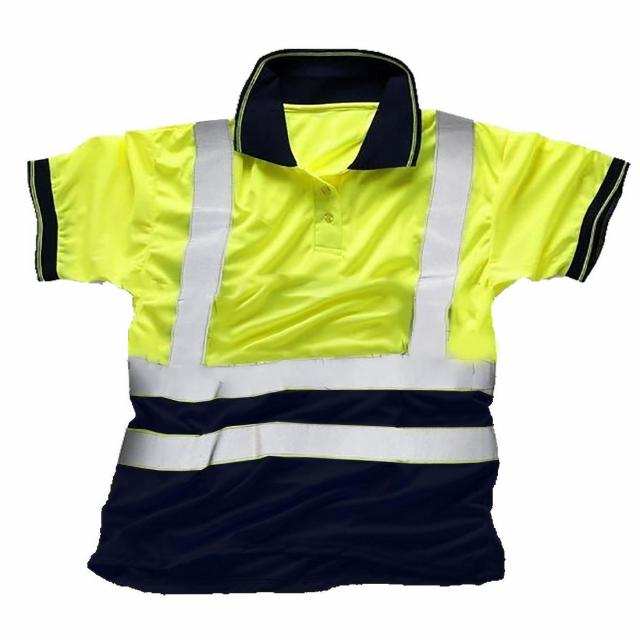Reflective-Jacket: (17, 56, 601, 491)
